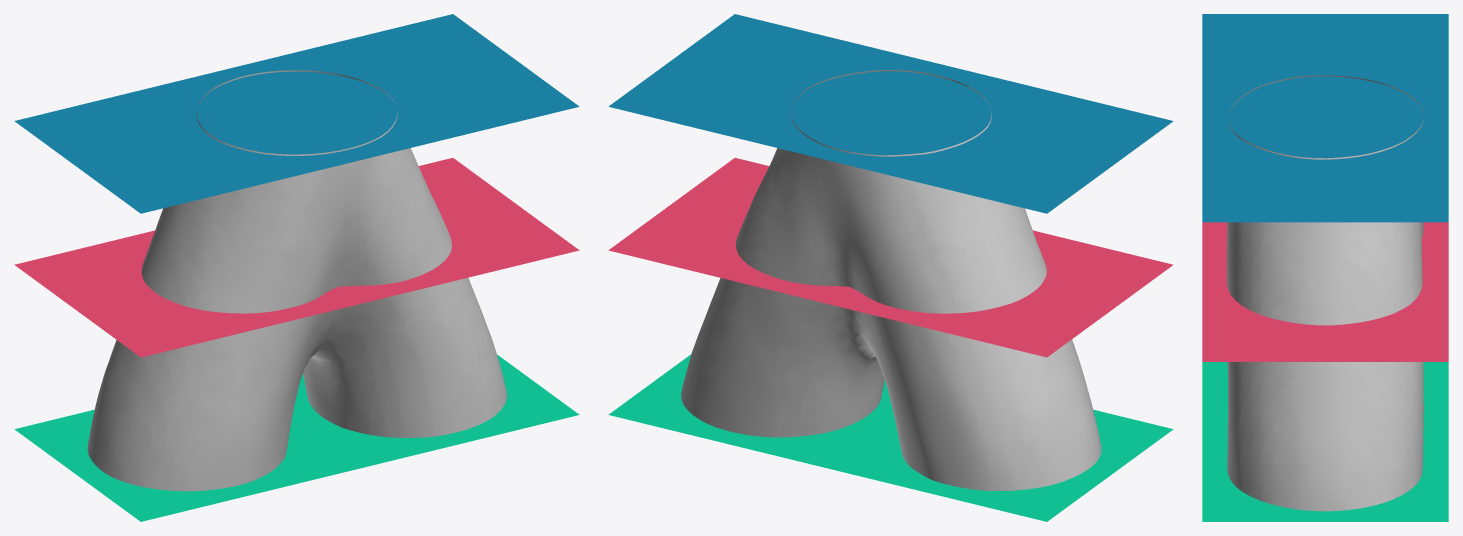
File: level_set_3d.glb
The picture shows the model from 3 angles, left to right: view 1: azimuth 30°, elevation 25°; view 2: azimuth 150°, elevation 25°; view 3: azimuth 270°, elevation 25°; orthographic projection. The views are drawn at different scales.
Visible parts, largest first — view 1: Sdf, plane_0, plane_1, plane_2; view 2: Sdf, plane_0, plane_1, plane_2; view 3: plane_0, Sdf, plane_1, plane_2.
Part boxes in pixels (x1=…): Sdf: x1=87, y1=70, x2=506, y2=491; plane_0: x1=14, y1=14, x2=579, y2=213; plane_1: x1=14, y1=158, x2=579, y2=357; plane_2: x1=14, y1=354, x2=579, y2=521; Sdf: x1=681, y1=70, x2=1101, y2=490; plane_0: x1=608, y1=14, x2=1173, y2=213; plane_1: x1=608, y1=158, x2=1173, y2=357; plane_2: x1=608, y1=354, x2=1173, y2=521; plane_0: x1=1202, y1=14, x2=1448, y2=222; Sdf: x1=1226, y1=75, x2=1423, y2=511; plane_1: x1=1202, y1=222, x2=1448, y2=361; plane_2: x1=1202, y1=362, x2=1448, y2=521.
Size of the model in its own units: 2 by 1.36 by 1.
